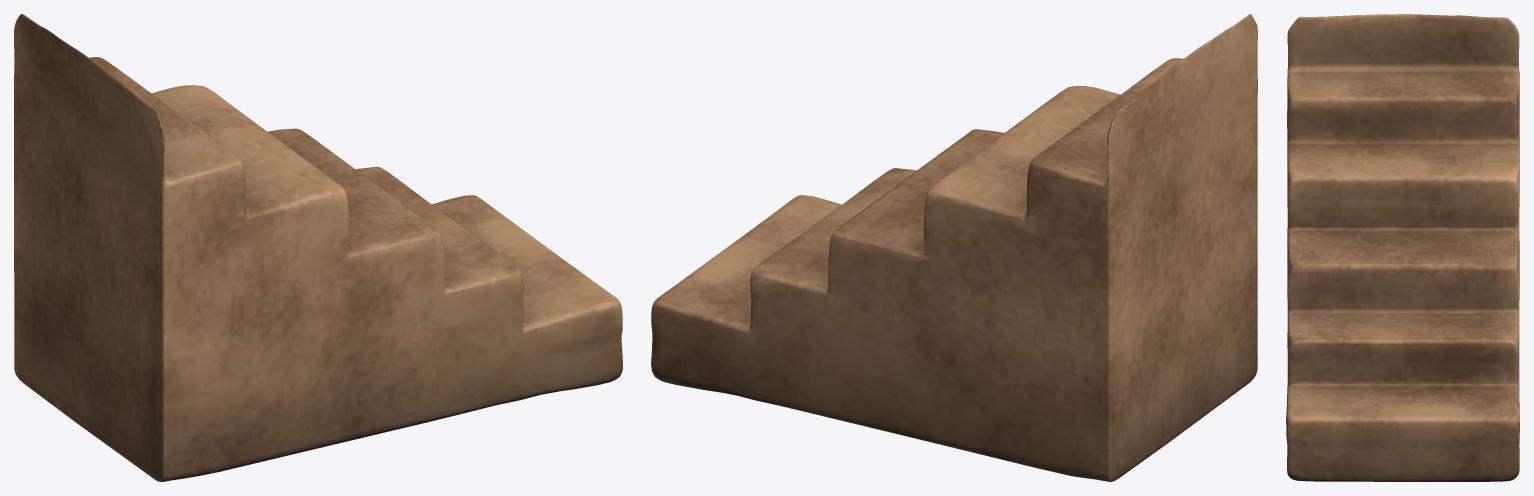
The model's file is old-sandstone-straight-staircase-v001.glb.
3 views of the same model, side by side, from view 1: azimuth 30°, elevation 25°; view 2: azimuth 150°, elevation 25°; view 3: azimuth 270°, elevation 25° (orthographic). The views are drawn at different scales.
Parts seen in each view (by area): view 1: old-sandstone-straight-staircase; view 2: old-sandstone-straight-staircase; view 3: old-sandstone-straight-staircase.
Boxes of the visible parts, box(x1,y1,x2,y2) form: old-sandstone-straight-staircase: box(14, 14, 622, 481); old-sandstone-straight-staircase: box(651, 14, 1257, 481); old-sandstone-straight-staircase: box(1286, 14, 1519, 481).
Size of the model in its own units: 1.54 by 1.22 by 0.8732.
1 material, 1 textured.
